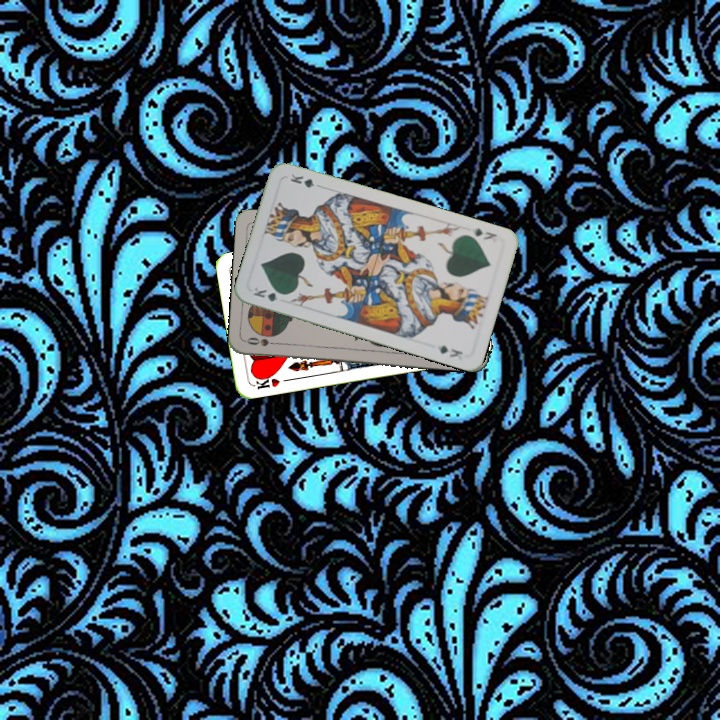GK: (249, 283, 289, 304), (470, 224, 499, 243)
HK: (250, 370, 283, 392)
SO: (243, 333, 283, 349)
